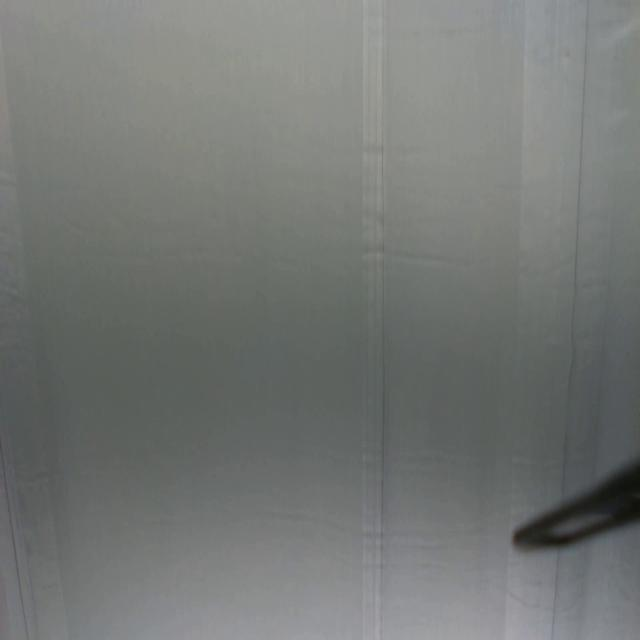crease: (558, 0, 592, 492), (362, 0, 387, 639), (1, 435, 30, 640)
